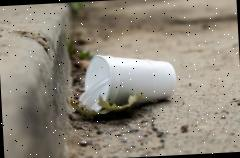plastic: (73, 50, 178, 116)
